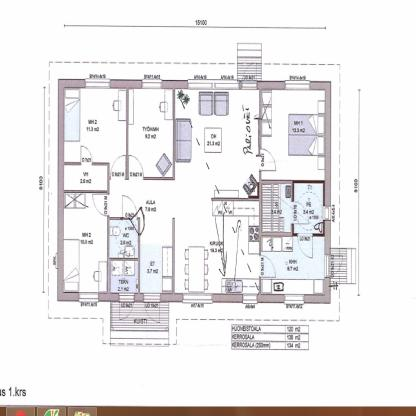door: (121, 194, 146, 235), (110, 155, 145, 180), (143, 292, 161, 326), (256, 254, 278, 278), (290, 201, 310, 226), (297, 233, 315, 260), (91, 192, 109, 218), (258, 150, 276, 174), (118, 294, 134, 320), (324, 255, 342, 278), (79, 144, 93, 164)
window: (188, 80, 238, 90), (182, 292, 212, 304), (283, 82, 310, 90), (84, 80, 110, 88), (285, 294, 302, 305), (78, 293, 98, 302), (241, 295, 256, 305), (142, 80, 161, 86), (242, 80, 255, 88)
zone: (175, 88, 259, 292), (177, 200, 258, 296), (109, 178, 174, 291), (65, 87, 126, 189), (262, 90, 324, 180), (65, 193, 108, 290), (128, 89, 172, 178), (262, 235, 324, 296), (110, 302, 168, 331), (292, 184, 322, 232), (263, 186, 292, 232), (110, 220, 136, 259), (64, 167, 106, 191), (110, 262, 138, 290)
